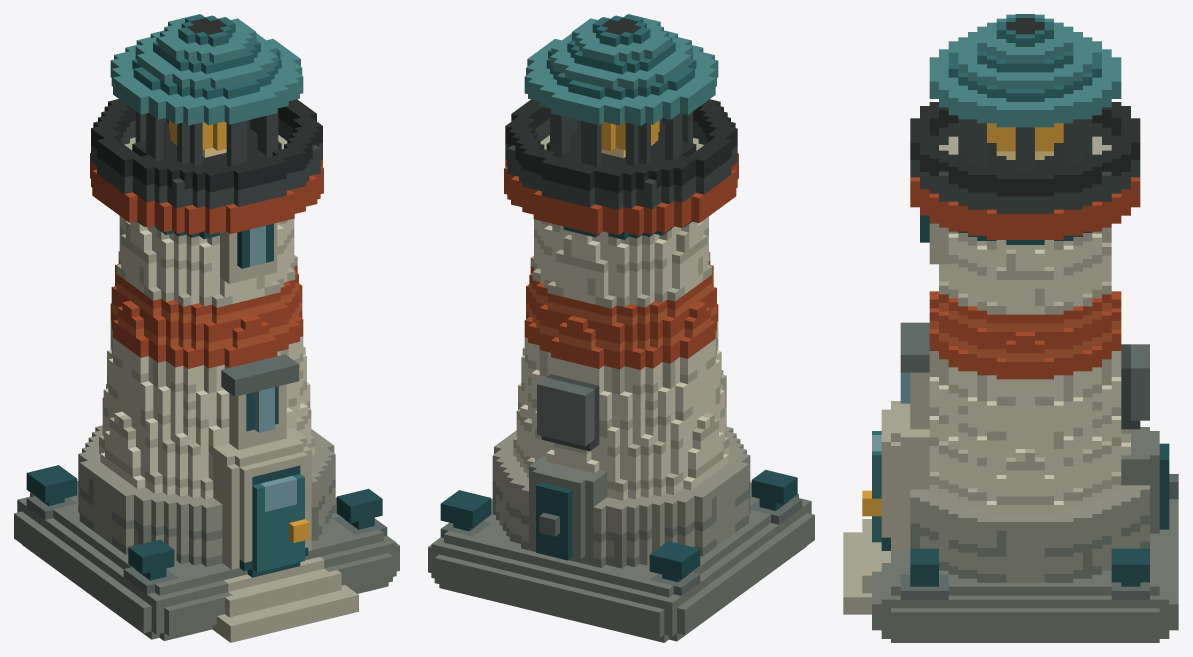
Rendered from lighthouse.glb.
3 views of the same model, side by side, from view 1: azimuth 30°, elevation 25°; view 2: azimuth 150°, elevation 25°; view 3: azimuth 270°, elevation 25° (orthographic). The views are drawn at different scales.
Visible parts, largest first — view 1: lighthouse; view 2: lighthouse; view 3: lighthouse.
Part boxes in pixels (<box>): lighthouse: <box>14,14,399,642</box>; lighthouse: <box>428,14,814,642</box>; lighthouse: <box>843,14,1178,642</box>.
Bounding box in the file's own units: 4.8 × 9.6 × 5.25.
